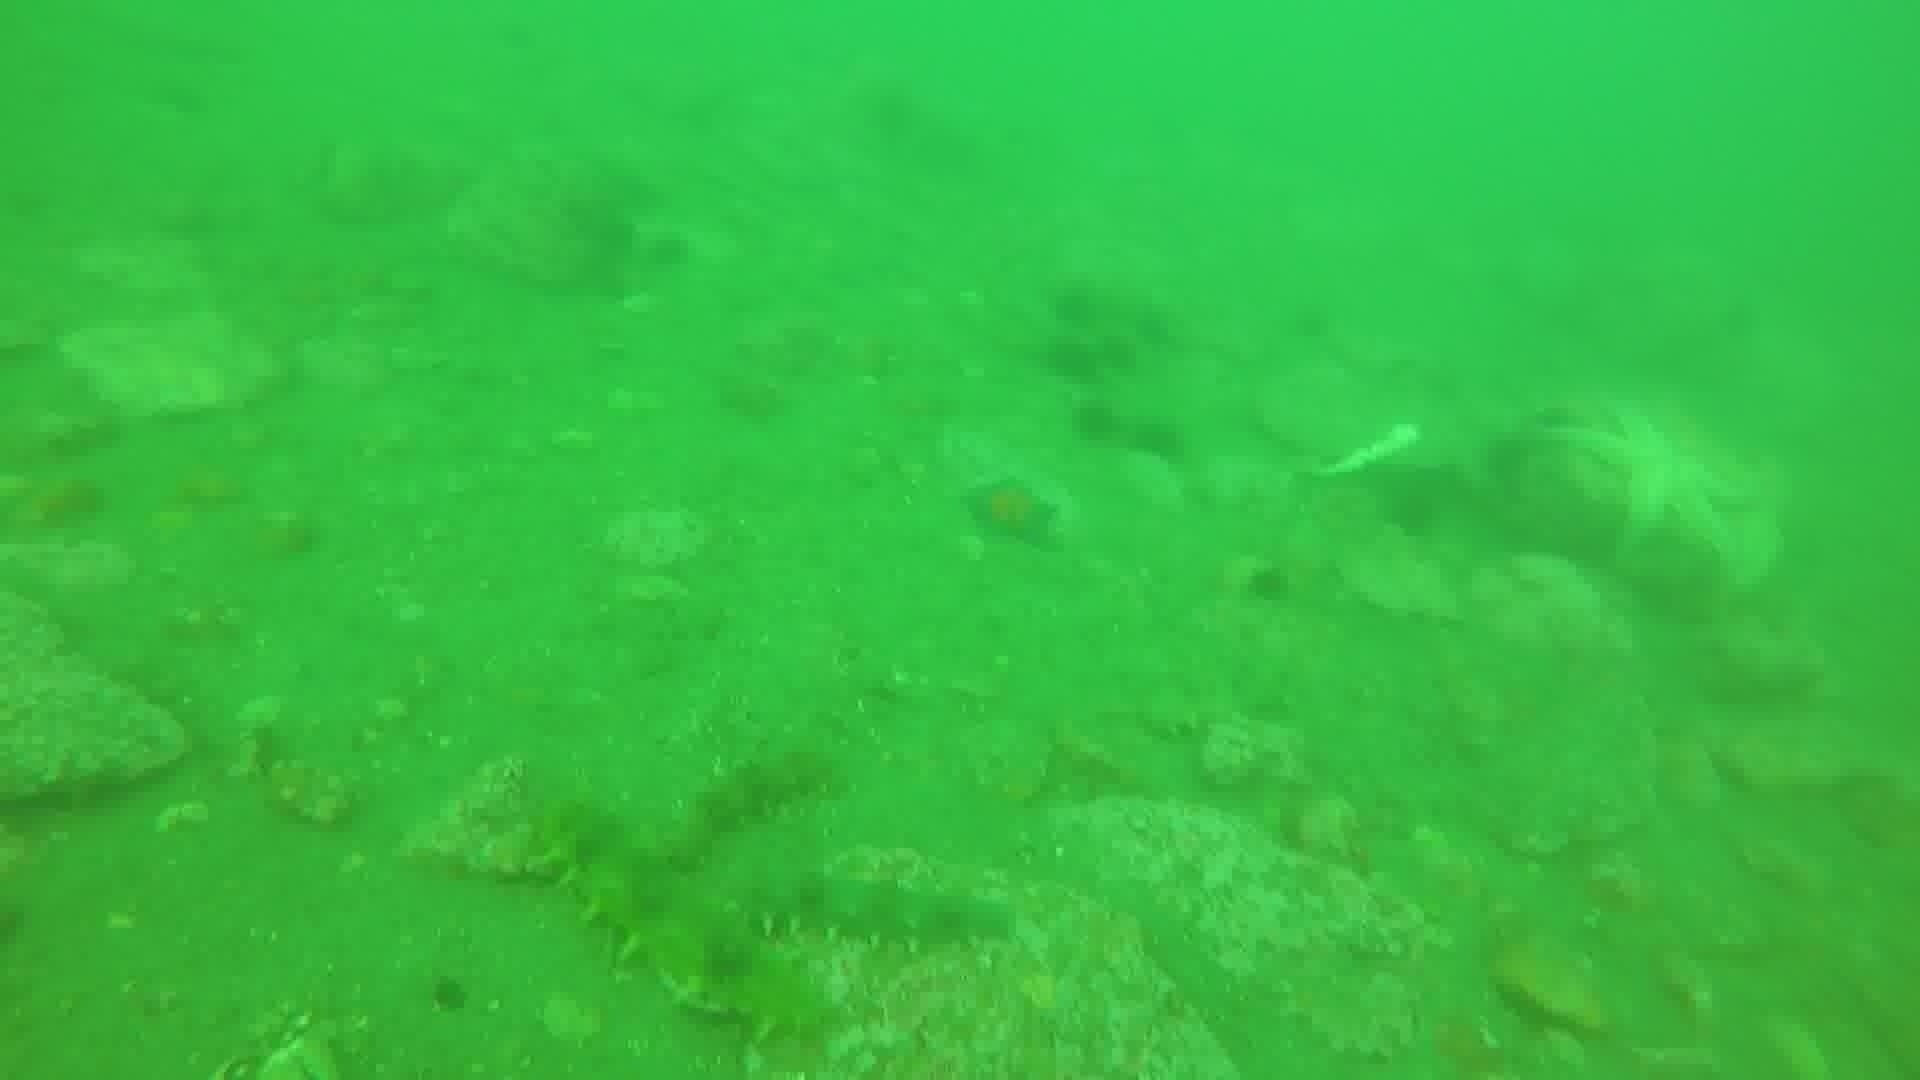echinus: (1125, 413, 1192, 469), (1077, 316, 1145, 373), (1038, 278, 1105, 334), (1114, 299, 1182, 355), (1040, 331, 1106, 386), (1240, 555, 1295, 611), (1373, 477, 1428, 533), (626, 225, 682, 280), (1067, 396, 1124, 448)
holothurian: (527, 793, 839, 1054), (723, 865, 1013, 960), (665, 742, 840, 868)
starfish: (959, 472, 1063, 553)
